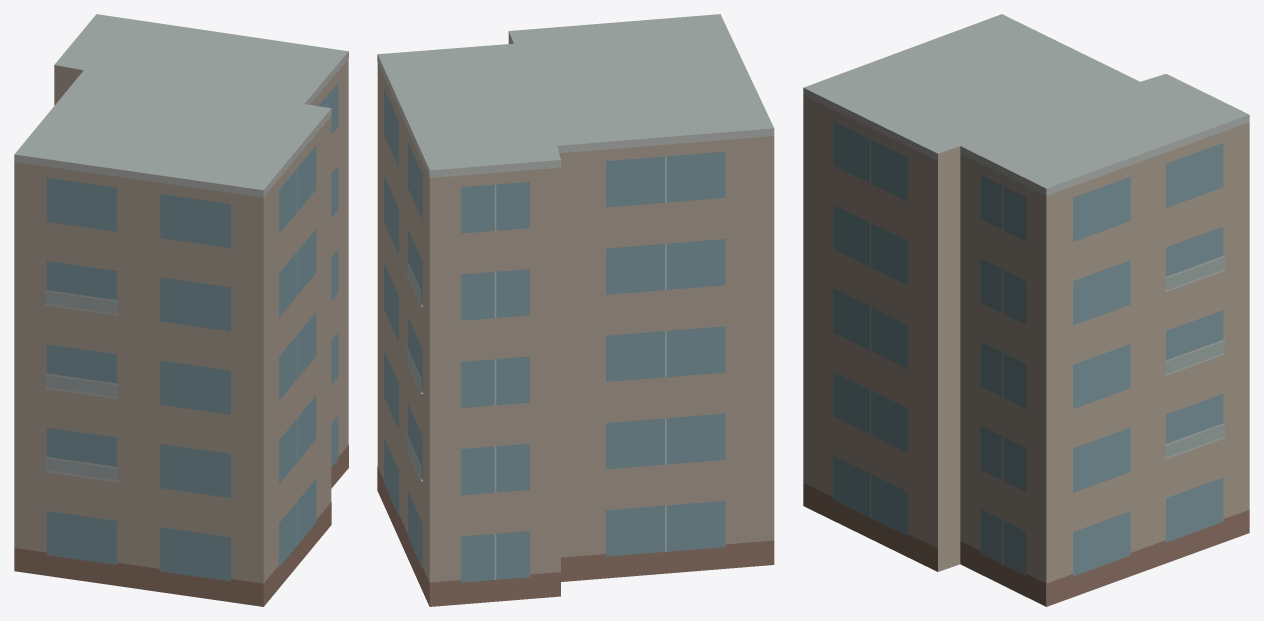
File: survey-upis-32676119.glb
3 renders of one model, left to right at view 1: azimuth 30°, elevation 25°; view 2: azimuth 150°, elevation 25°; view 3: azimuth 270°, elevation 25°, orthographic. The views are drawn at different scales.
Visible parts, largest first — view 1: survey-upis-32676119.tmp; view 2: survey-upis-32676119.tmp; view 3: survey-upis-32676119.tmp.
Part boxes in pixels (x1=…): survey-upis-32676119.tmp: x1=14, y1=14, x2=348, y2=606; survey-upis-32676119.tmp: x1=377, y1=14, x2=774, y2=606; survey-upis-32676119.tmp: x1=803, y1=14, x2=1249, y2=606.
Size of the model in its own units: 12.46 by 13.9 by 13.45.
